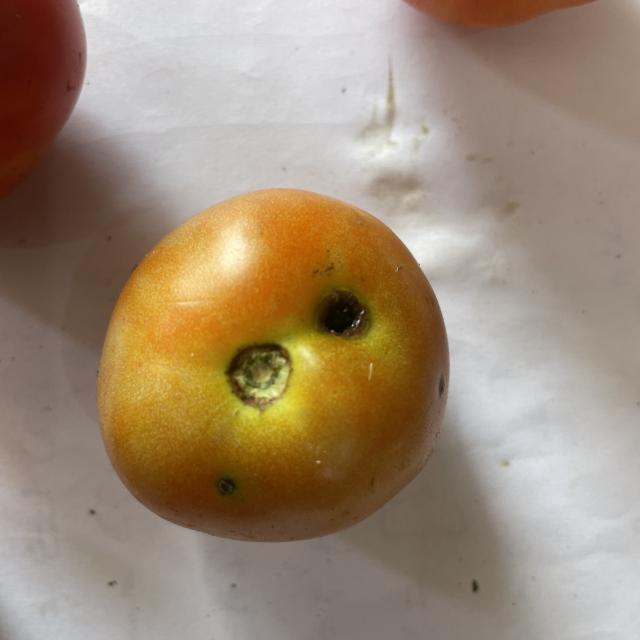fruitworm_bore: (308, 288, 372, 342)
